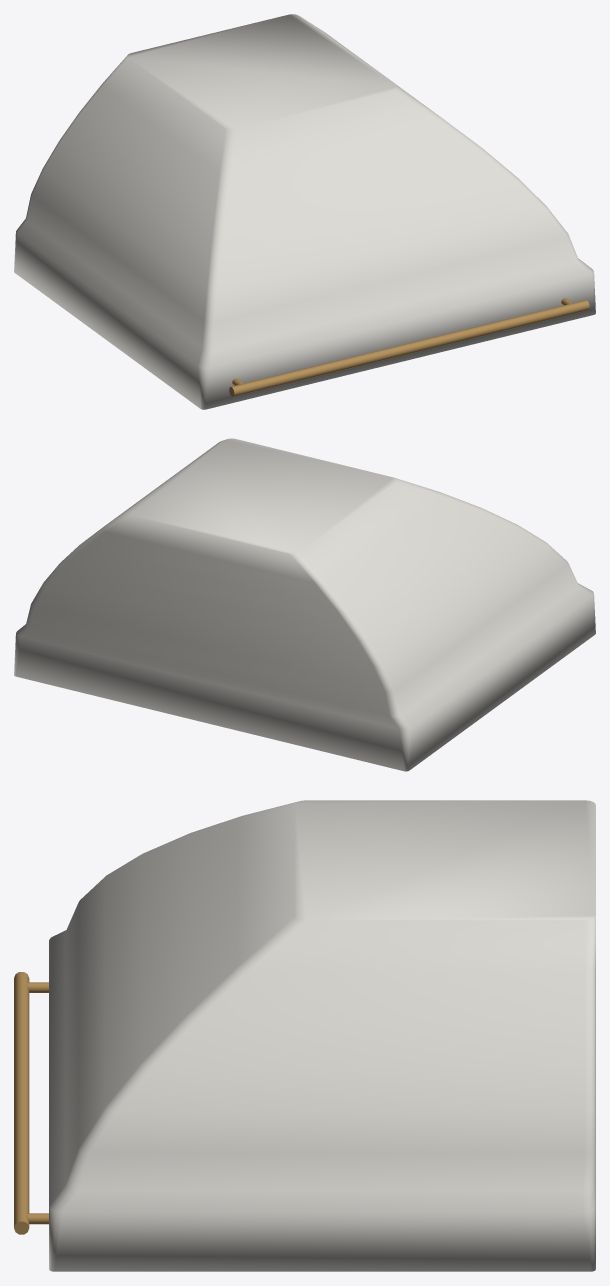
The model's file is a_hood_retro_2.glb.
The picture shows the model from 3 angles, top to bottom: view 1: azimuth 30°, elevation 25°; view 2: azimuth 150°, elevation 25°; view 3: azimuth 270°, elevation 25°; orthographic projection. The views are drawn at different scales.
Parts seen in each view (by area): view 1: o, o.027; view 2: o; view 3: o, o.027.
Part boxes in pixels (x1,y1,x2,y2): o: (14,14,595,409); o.027: (229,300,589,396); o: (14,438,595,771); o: (49,800,595,1271); o.027: (14,972,29,1234).
Size of the model in its own units: 0.6 by 0.2772 by 0.532.
